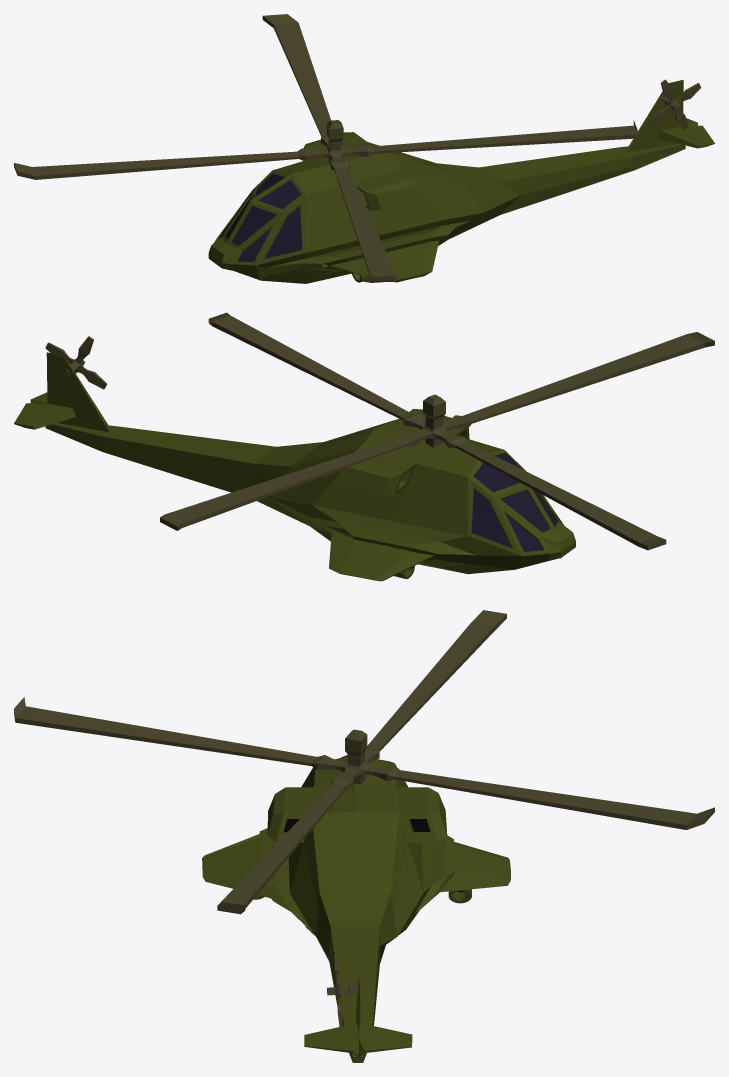
File: helicopter 1.fbx
The picture shows the model from 3 angles, top to bottom: view 1: azimuth 30°, elevation 25°; view 2: azimuth 150°, elevation 25°; view 3: azimuth 270°, elevation 25°; orthographic projection. The views are drawn at different scales.
Visible parts, largest first — view 1: heli; view 2: heli; view 3: heli.
Boxes of the visible parts, bbox=[...] form: heli: bbox=[14, 14, 714, 283]; heli: bbox=[14, 312, 714, 581]; heli: bbox=[14, 610, 714, 1062].
Size of the model in its own units: 4505 by 999 by 3692.
